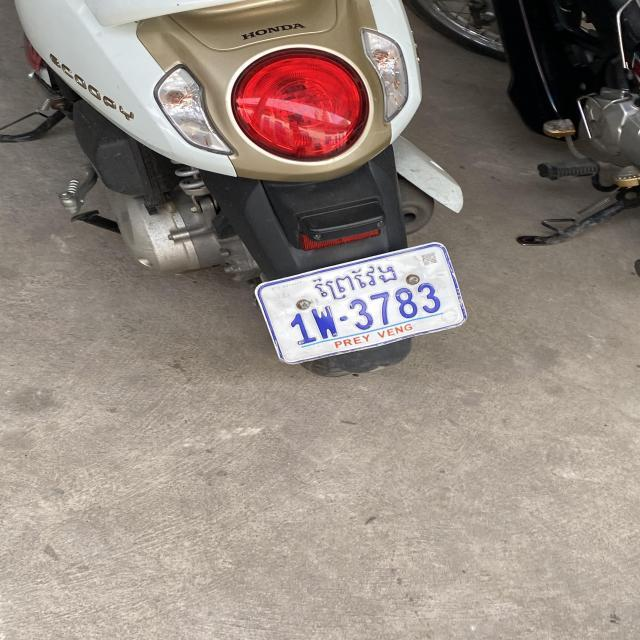Kampong_Thom: (311, 262, 399, 300)
